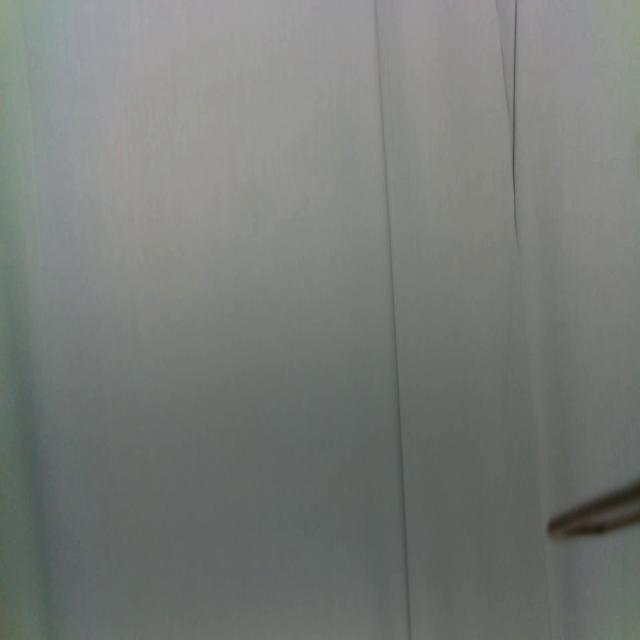crease: (374, 0, 413, 640), (511, 0, 519, 237)
